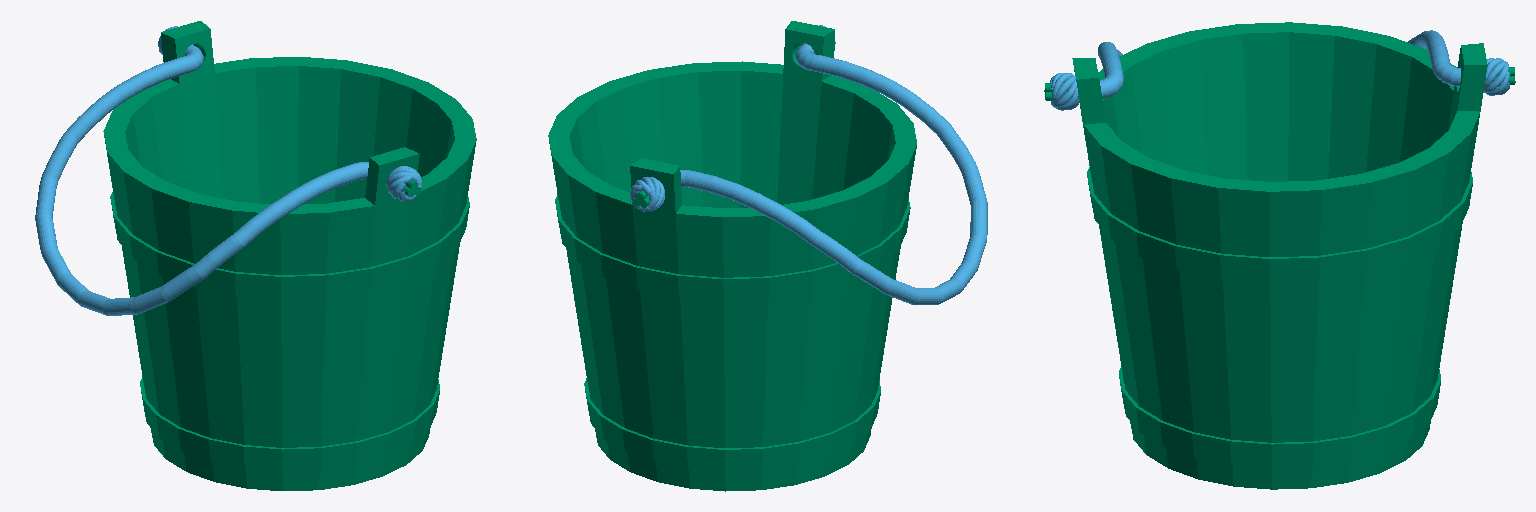
The robot description file, URDF, robot "partnet_823f2656-9520-4364-84a3-df6748c11aa8":
<?xml version="1.0" ?>
<robot name="partnet_823f2656-9520-4364-84a3-df6748c11aa8">
	<link name="base"/>
	<link name="link_0">
		<visual name="handle-1">
			<origin xyz="0.0007932861472682853 -0.6396945949936422 0.029426024776438554"/>
			<geometry>
				<mesh filename="textured_objs/original-14.obj"/>
			</geometry>
		</visual>
		<visual name="handle-1">
			<origin xyz="0.0007932861472682853 -0.6396945949936422 0.029426024776438554"/>
			<geometry>
				<mesh filename="textured_objs/original-18.obj"/>
			</geometry>
		</visual>
		<visual name="handle-1">
			<origin xyz="0.0007932861472682853 -0.6396945949936422 0.029426024776438554"/>
			<geometry>
				<mesh filename="textured_objs/original-20.obj"/>
			</geometry>
		</visual>
		<visual name="handle-1">
			<origin xyz="0.0007932861472682853 -0.6396945949936422 0.029426024776438554"/>
			<geometry>
				<mesh filename="textured_objs/original-22.obj"/>
			</geometry>
		</visual>
		<visual name="handle-1">
			<origin xyz="0.0007932861472682853 -0.6396945949936422 0.029426024776438554"/>
			<geometry>
				<mesh filename="textured_objs/original-23.obj"/>
			</geometry>
		</visual>
		<visual name="handle-1">
			<origin xyz="0.0007932861472682853 -0.6396945949936422 0.029426024776438554"/>
			<geometry>
				<mesh filename="textured_objs/original-24.obj"/>
			</geometry>
		</visual>
		<visual name="handle-1">
			<origin xyz="0.0007932861472682853 -0.6396945949936422 0.029426024776438554"/>
			<geometry>
				<mesh filename="textured_objs/original-21.obj"/>
			</geometry>
		</visual>
		<visual name="handle-1">
			<origin xyz="0.0007932861472682853 -0.6396945949936422 0.029426024776438554"/>
			<geometry>
				<mesh filename="textured_objs/original-17.obj"/>
			</geometry>
		</visual>
		<visual name="handle-1">
			<origin xyz="0.0007932861472682853 -0.6396945949936422 0.029426024776438554"/>
			<geometry>
				<mesh filename="textured_objs/original-19.obj"/>
			</geometry>
		</visual>
		<visual name="handle-1">
			<origin xyz="0.0007932861472682853 -0.6396945949936422 0.029426024776438554"/>
			<geometry>
				<mesh filename="textured_objs/original-31.obj"/>
			</geometry>
		</visual>
		<visual name="handle-1">
			<origin xyz="0.0007932861472682853 -0.6396945949936422 0.029426024776438554"/>
			<geometry>
				<mesh filename="textured_objs/original-34.obj"/>
			</geometry>
		</visual>
		<visual name="handle-1">
			<origin xyz="0.0007932861472682853 -0.6396945949936422 0.029426024776438554"/>
			<geometry>
				<mesh filename="textured_objs/original-33.obj"/>
			</geometry>
		</visual>
		<visual name="handle-1">
			<origin xyz="0.0007932861472682853 -0.6396945949936422 0.029426024776438554"/>
			<geometry>
				<mesh filename="textured_objs/original-28.obj"/>
			</geometry>
		</visual>
		<visual name="handle-1">
			<origin xyz="0.0007932861472682853 -0.6396945949936422 0.029426024776438554"/>
			<geometry>
				<mesh filename="textured_objs/original-30.obj"/>
			</geometry>
		</visual>
		<visual name="handle-1">
			<origin xyz="0.0007932861472682853 -0.6396945949936422 0.029426024776438554"/>
			<geometry>
				<mesh filename="textured_objs/original-32.obj"/>
			</geometry>
		</visual>
		<visual name="handle-1">
			<origin xyz="0.0007932861472682853 -0.6396945949936422 0.029426024776438554"/>
			<geometry>
				<mesh filename="textured_objs/original-27.obj"/>
			</geometry>
		</visual>
		<visual name="handle-1">
			<origin xyz="0.0007932861472682853 -0.6396945949936422 0.029426024776438554"/>
			<geometry>
				<mesh filename="textured_objs/original-29.obj"/>
			</geometry>
		</visual>
		<collision>
			<origin xyz="0.0007932861472682853 -0.6396945949936422 0.029426024776438554"/>
			<geometry>
				<mesh filename="manual_processed/original-14.obj"/>
			</geometry>
		</collision>
	</link>
	<joint name="joint_0" type="revolute">
		<origin xyz="-0.0007932861472682853 0.6396945949936422 -0.029426024776438554"/>
		<axis xyz="-1 0 0.08"/>
		<child link="link_0"/>
		<parent link="link_1"/>
		<limit lower="-0.006283185307179586" upper="3.443185548334413"/>
	</joint>
	<link name="link_1">
		<visual name="base_body-2">
			<origin xyz="0 0 0"/>
			<geometry>
				<mesh filename="textured_objs/original-26.obj"/>
			</geometry>
		</visual>
		<visual name="base_body-2">
			<origin xyz="0 0 0"/>
			<geometry>
				<mesh filename="textured_objs/original-4.obj"/>
			</geometry>
		</visual>
		<visual name="base_body-2">
			<origin xyz="0 0 0"/>
			<geometry>
				<mesh filename="textured_objs/original-3.obj"/>
			</geometry>
		</visual>
		<visual name="base_body-2">
			<origin xyz="0 0 0"/>
			<geometry>
				<mesh filename="textured_objs/original-2.obj"/>
			</geometry>
		</visual>
		<visual name="base_body-2">
			<origin xyz="0 0 0"/>
			<geometry>
				<mesh filename="textured_objs/original-16.obj"/>
			</geometry>
		</visual>
		<visual name="base_body-2">
			<origin xyz="0 0 0"/>
			<geometry>
				<mesh filename="textured_objs/original-8.obj"/>
			</geometry>
		</visual>
		<visual name="base_body-2">
			<origin xyz="0 0 0"/>
			<geometry>
				<mesh filename="textured_objs/original-9.obj"/>
			</geometry>
		</visual>
		<visual name="base_body-2">
			<origin xyz="0 0 0"/>
			<geometry>
				<mesh filename="textured_objs/original-5.obj"/>
			</geometry>
		</visual>
		<visual name="base_body-2">
			<origin xyz="0 0 0"/>
			<geometry>
				<mesh filename="textured_objs/original-6.obj"/>
			</geometry>
		</visual>
		<visual name="base_body-2">
			<origin xyz="0 0 0"/>
			<geometry>
				<mesh filename="textured_objs/original-11.obj"/>
			</geometry>
		</visual>
		<visual name="base_body-2">
			<origin xyz="0 0 0"/>
			<geometry>
				<mesh filename="textured_objs/original-12.obj"/>
			</geometry>
		</visual>
		<visual name="base_body-2">
			<origin xyz="0 0 0"/>
			<geometry>
				<mesh filename="textured_objs/original-7.obj"/>
			</geometry>
		</visual>
		<visual name="base_body-2">
			<origin xyz="0 0 0"/>
			<geometry>
				<mesh filename="textured_objs/original-10.obj"/>
			</geometry>
		</visual>
		<collision>
			<origin xyz="0 0 0"/>
			<geometry>
				<mesh filename="manual_processed/original-1.obj"/>
			</geometry>
		</collision>
	</link>
	<joint name="joint_1" type="fixed">
		<origin rpy="1.570796326794897 0 -1.570796326794897" xyz="0 0 0"/>
		<child link="link_1"/>
		<parent link="base"/>
	</joint>
</robot>

--- What the picture shows (computed from the rendered views, not written in the file) ---
The picture shows the robot from 3 angles, left to right: view 1: azimuth 30°, elevation 25°; view 2: azimuth 150°, elevation 25°; view 3: azimuth 270°, elevation 25°; orthographic projection.
Model partnet_823f2656-9520-4364-84a3-df6748c11aa8 with 3 links and 2 joints (1 revolute, 1 fixed), rooted at base, posed all joints at 0.
Links seen in each view (by area): view 1: link_1, link_0; view 2: link_1, link_0; view 3: link_1, link_0.
Boxes of the visible links, x1=… form: link_1: x1=103, y1=21, x2=476, y2=490; link_0: x1=35, y1=26, x2=421, y2=315; link_1: x1=548, y1=21, x2=916, y2=491; link_0: x1=630, y1=25, x2=987, y2=304; link_1: x1=1044, y1=22, x2=1515, y2=489; link_0: x1=1050, y1=30, x2=1509, y2=110.
Bounding box of the posed robot: 1.51 × 1.49 × 1.27 m (x, y, z).
Meshes: 30 distinct files referenced, 30 mesh visuals loaded (30 OBJ).